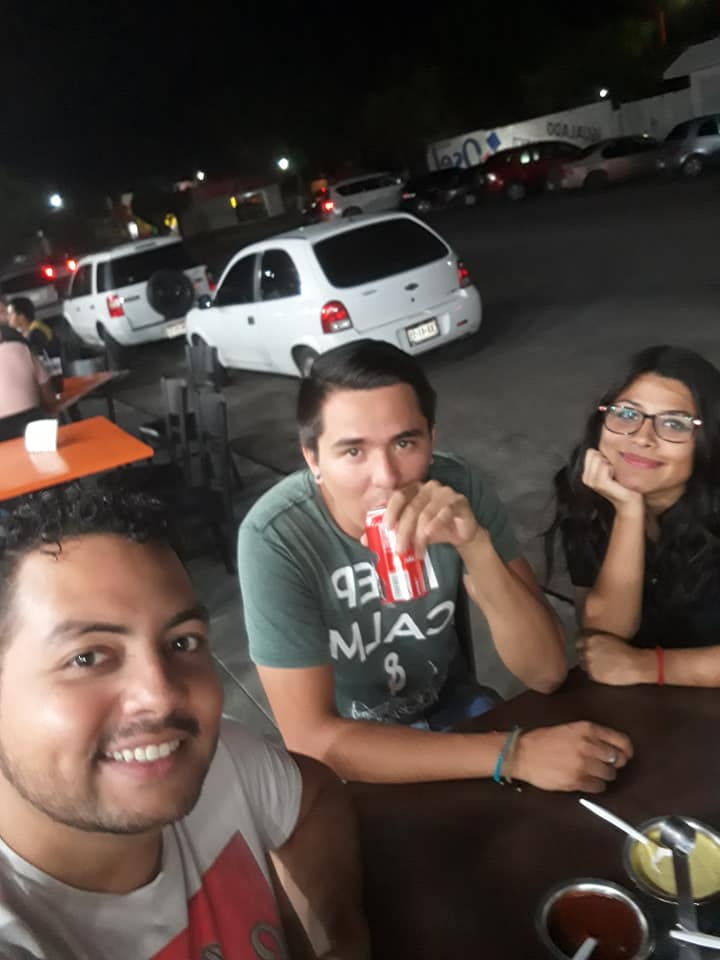Yoshi: (8, 470, 275, 925)
